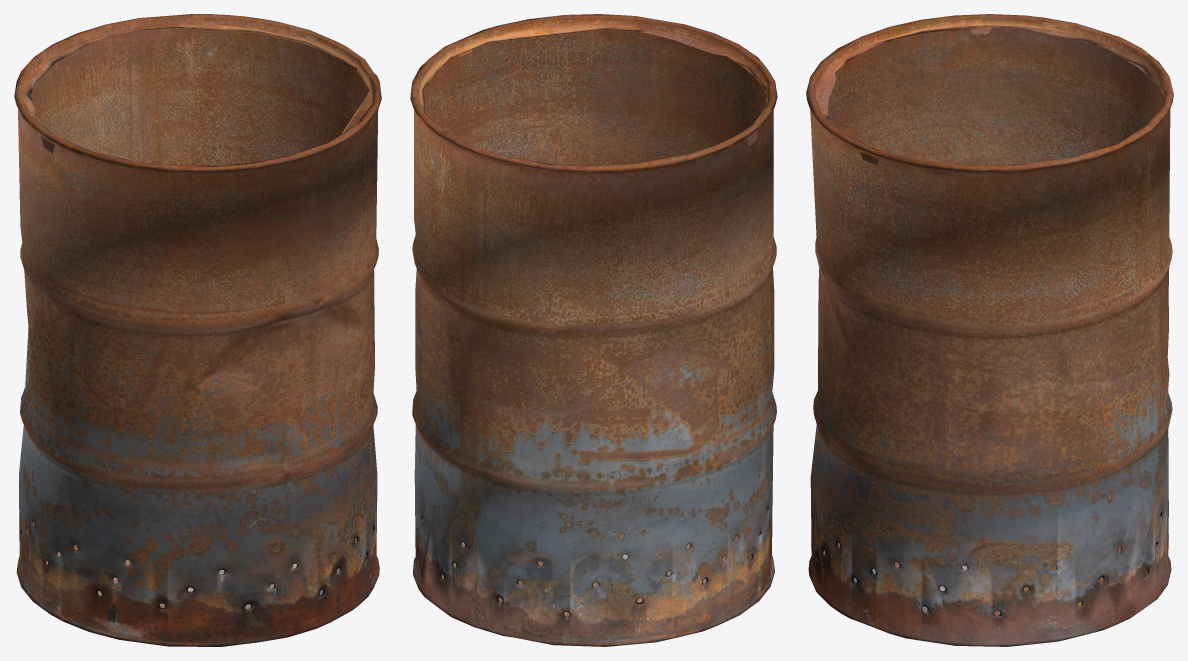
The model's file is furnace.glb.
3 views of the same model, side by side, from view 1: azimuth 30°, elevation 25°; view 2: azimuth 150°, elevation 25°; view 3: azimuth 270°, elevation 25° (orthographic).
Parts seen in each view (by area): view 1: barrel_stove; view 2: barrel_stove; view 3: barrel_stove.
Part boxes in pixels (x1,y1,x2,y2): barrel_stove: (14,14,381,646); barrel_stove: (410,14,777,646); barrel_stove: (806,14,1173,646).
Bounding box in the file's own units: 0.5901 × 0.8556 × 0.5925.
1 material, 1 textured.
